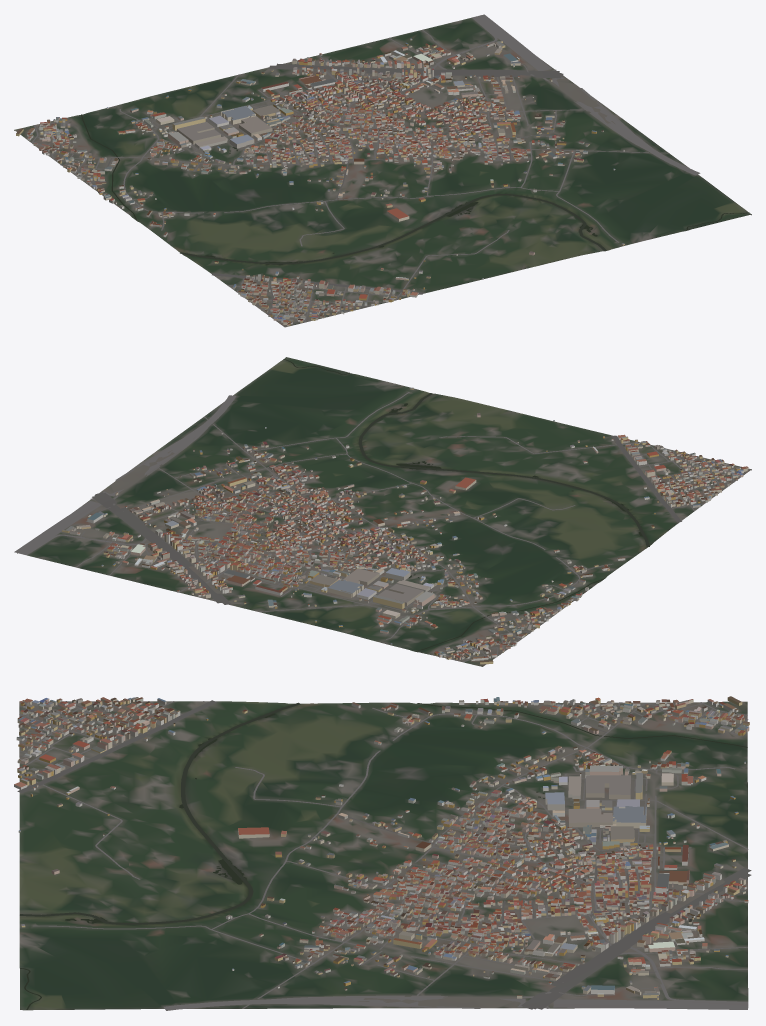
3 renders of one model, top to bottom at view 1: azimuth 30°, elevation 25°; view 2: azimuth 150°, elevation 25°; view 3: azimuth 270°, elevation 25°, orthographic. The views are drawn at different scales.
Visible parts, largest first — view 1: ground, buildings, roads, water; view 2: ground, buildings, roads, water; view 3: ground, buildings, roads, water.
Boxes of the visible parts, <box> form: ground: <box>14,17,751,327</box>; buildings: <box>16,38,624,326</box>; roads: <box>31,14,700,322</box>; water: <box>81,114,749,264</box>; ground: <box>17,357,751,666</box>; buildings: <box>62,387,748,664</box>; roads: <box>14,392,734,662</box>; water: <box>283,359,649,651</box>; ground: <box>19,701,748,1010</box>; buildings: <box>14,696,749,999</box>; roads: <box>17,700,751,1010</box>; water: <box>19,702,747,1009</box>.
Size of the model in its own units: 1422 by 35.87 by 1421.
